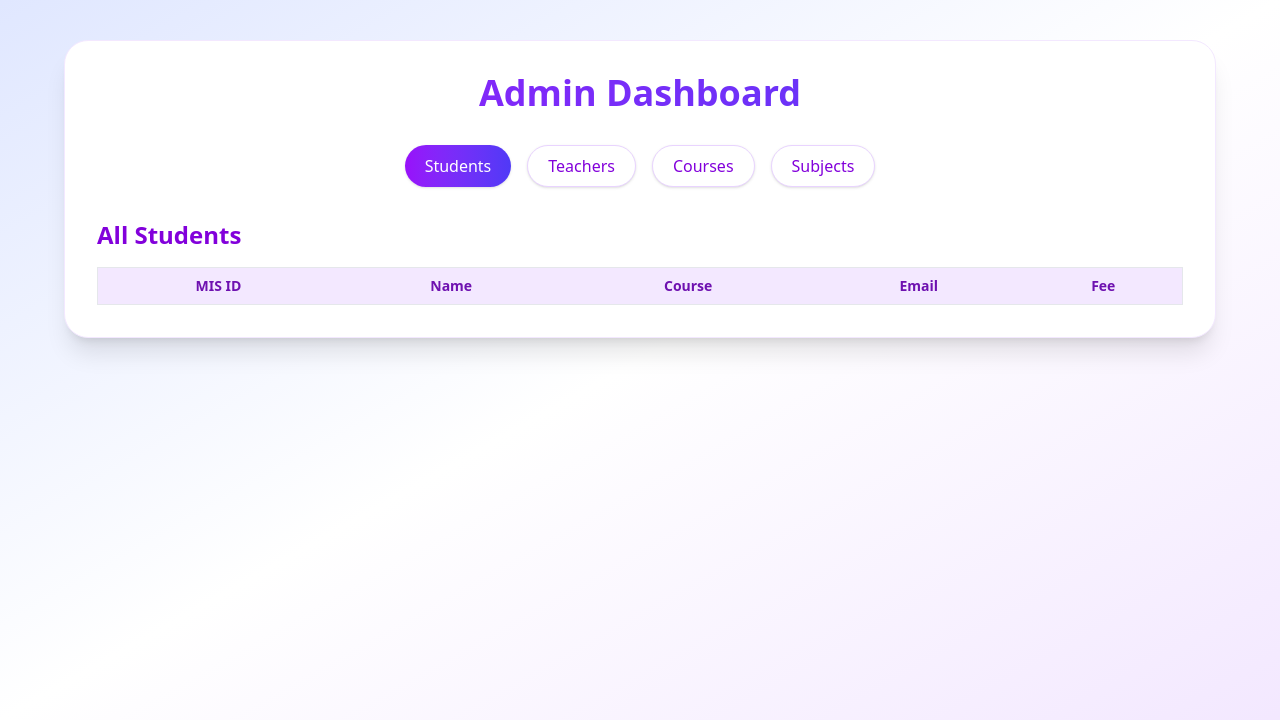
Test: switches between tabs properly
Expected: the heading "All Students" is shown, [97,218,241,251]
Note: switch to teachers tab
Click the button "Teachers".
click(582, 166)  # box [527,145,636,187]
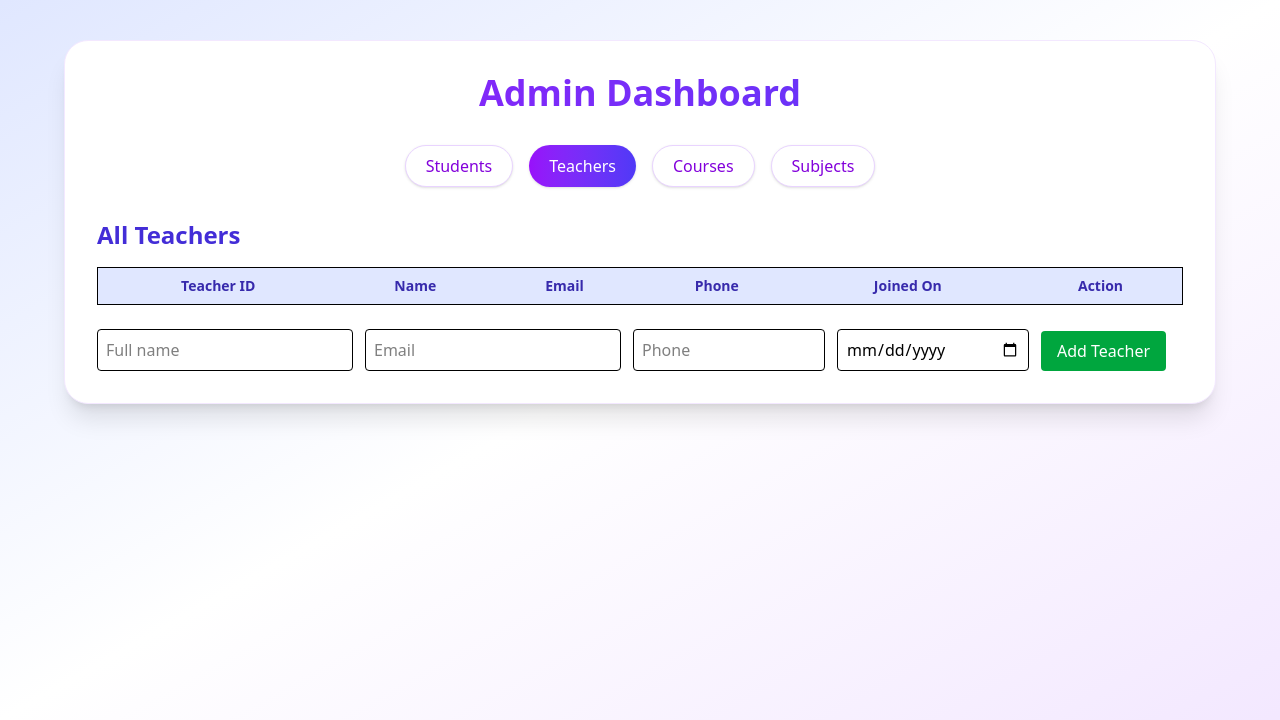
Expected: the heading "All Teachers" is shown, [97,218,240,251]
Note: switch to courses tab
Click the button "Courses".
click(703, 166)  # box [652,145,754,187]
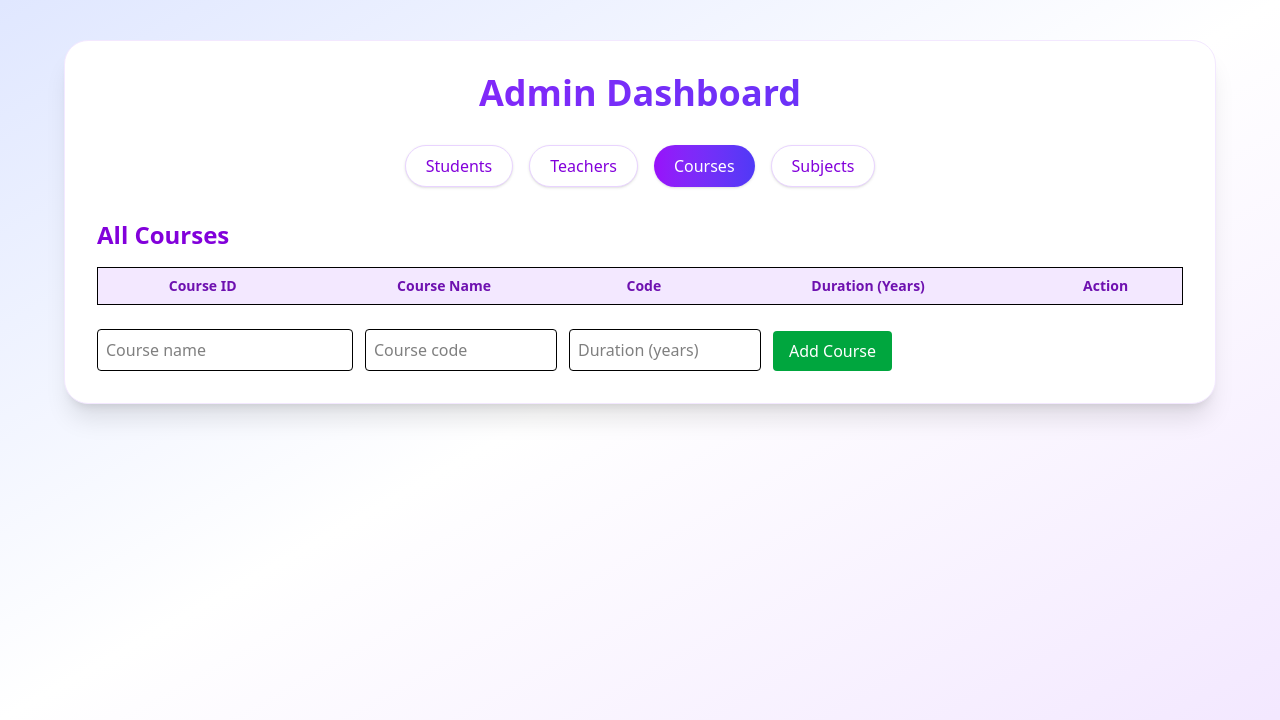
Expected: the heading "All Courses" is shown, [97,218,229,251]
Note: switch to subjects tab
Click the button "Subjects".
click(823, 166)  # box [771,145,875,187]
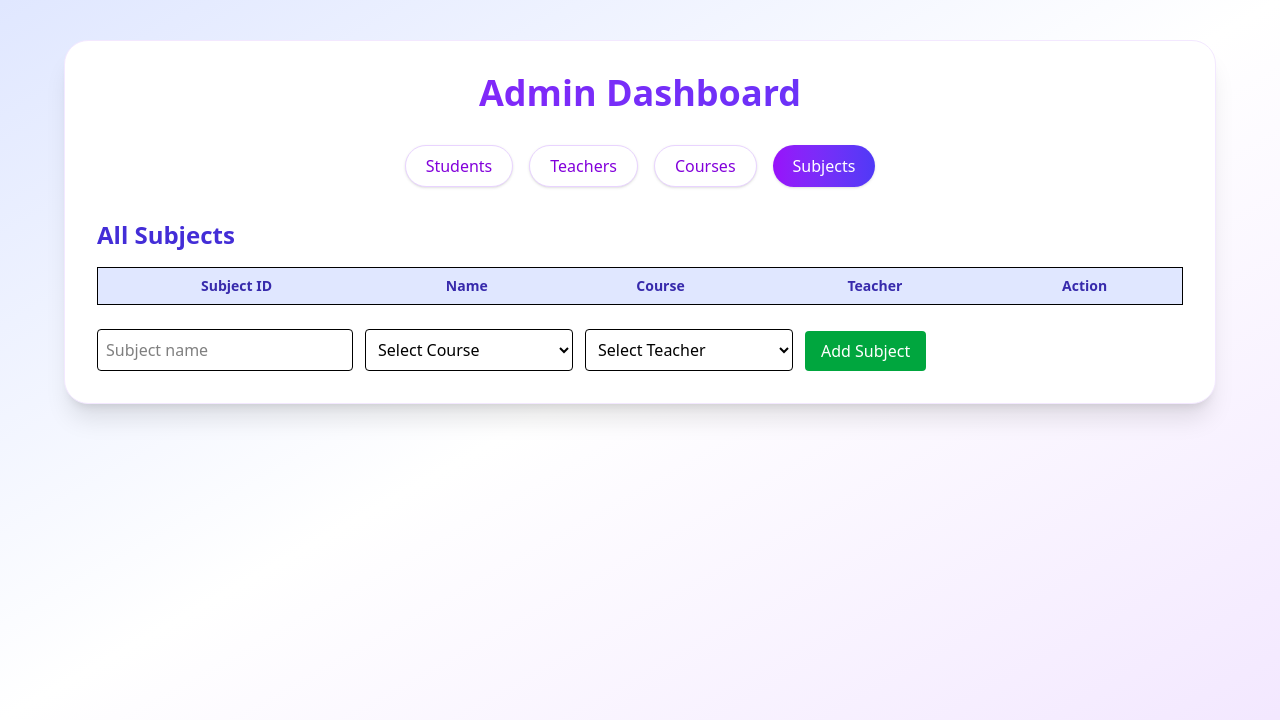
Expected: the heading "All Subjects" is shown, [97,218,235,251]
